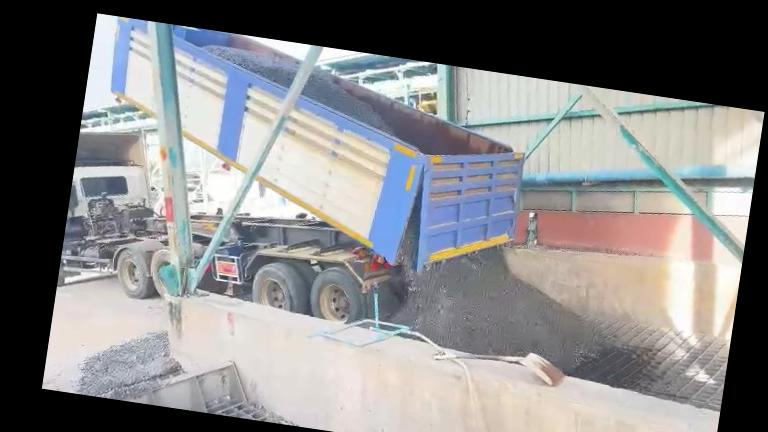gravel: (390, 249, 597, 366), (75, 331, 181, 400), (303, 70, 394, 134), (204, 45, 298, 88), (398, 194, 419, 269)
